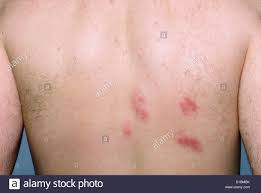herpes: (174, 122, 214, 165)
